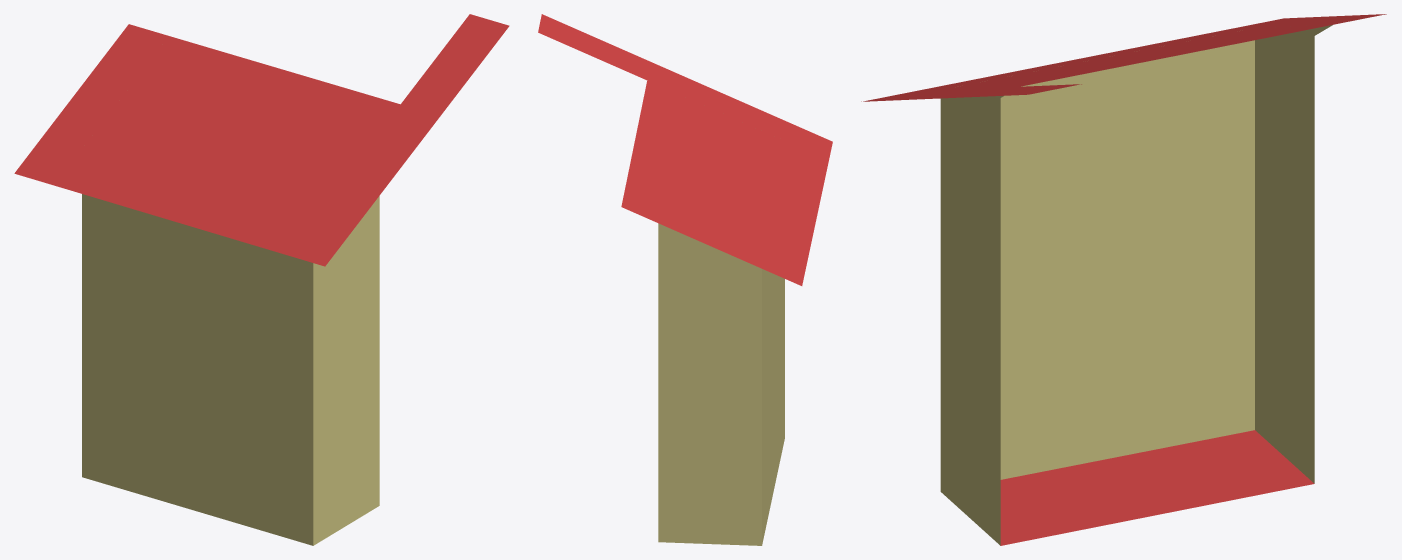
3 views of the same model, side by side, from view 1: azimuth 30°, elevation 25°; view 2: azimuth 150°, elevation 25°; view 3: azimuth 270°, elevation 25° (orthographic). The views are drawn at different scales.
Bounding box in the file's own units: 9.28 × 8.82 × 9.9.
